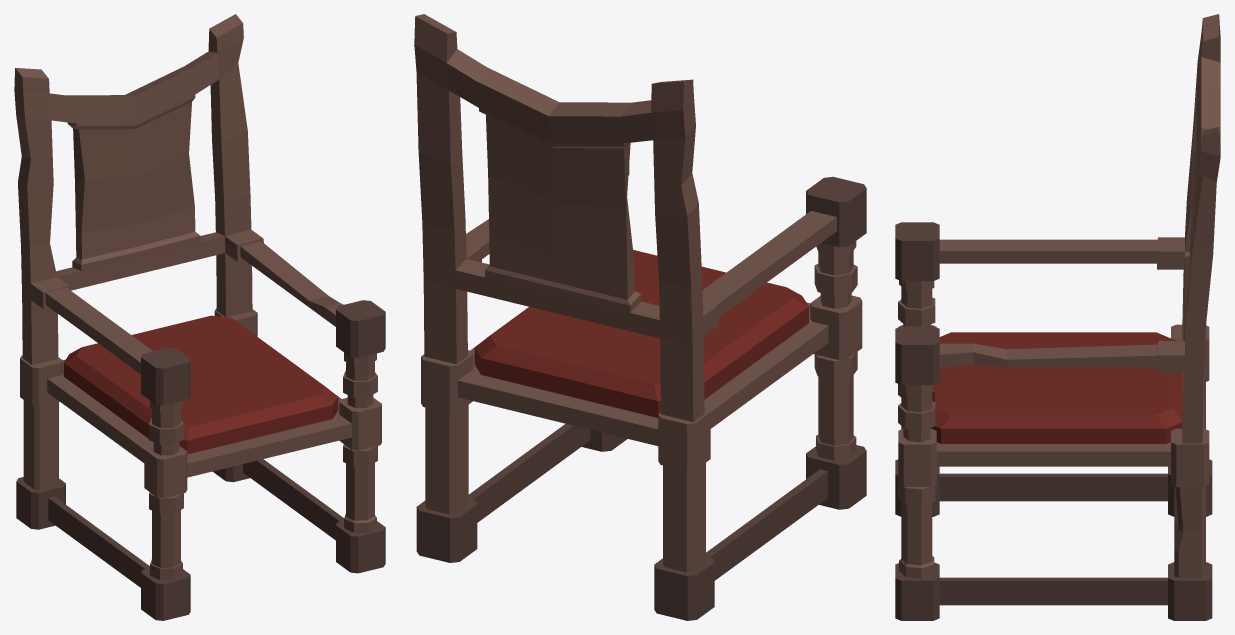
Rendered from Chair.glb.
3 views of the same model, side by side, from view 1: azimuth 30°, elevation 25°; view 2: azimuth 150°, elevation 25°; view 3: azimuth 270°, elevation 25° (orthographic). The views are drawn at different scales.
Parts seen in each view (by area): view 1: Chair; view 2: Chair; view 3: Chair.
Part boxes in pixels (x1,y1,x2,y2): Chair: (14, 14, 385, 620); Chair: (414, 14, 866, 620); Chair: (895, 14, 1220, 620).
Size of the model in its own units: 0.627 by 1.16 by 0.7024.
